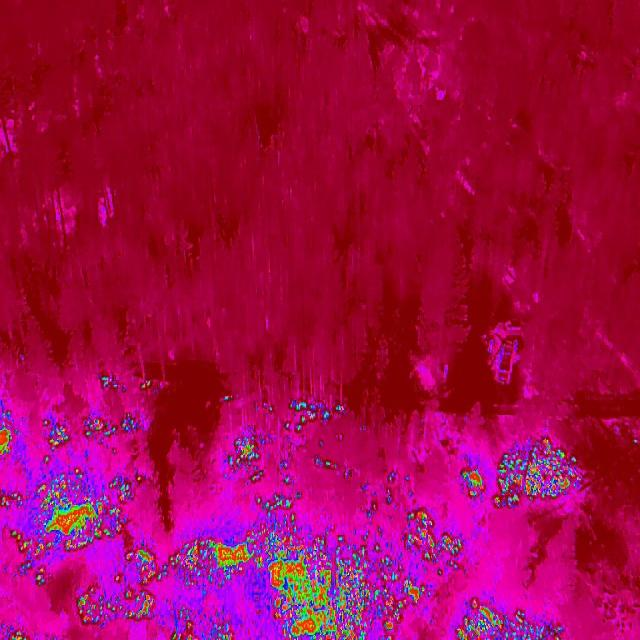fire: (162, 501, 464, 640), (0, 462, 143, 589), (489, 437, 582, 514), (39, 412, 142, 460), (458, 595, 564, 640), (283, 397, 351, 467), (72, 580, 162, 629), (226, 436, 266, 486), (125, 542, 162, 586), (96, 372, 156, 397), (458, 465, 488, 500), (0, 408, 18, 457), (0, 629, 32, 640), (219, 392, 243, 406)
